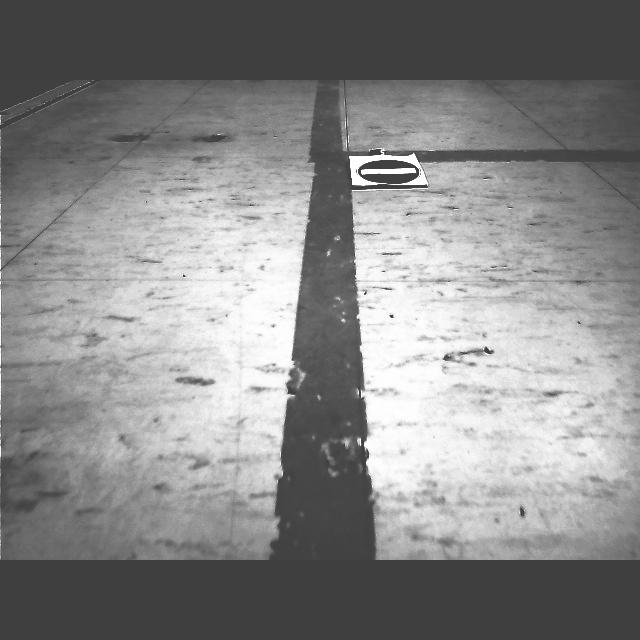NO ENTRY: (356, 160, 418, 184)
